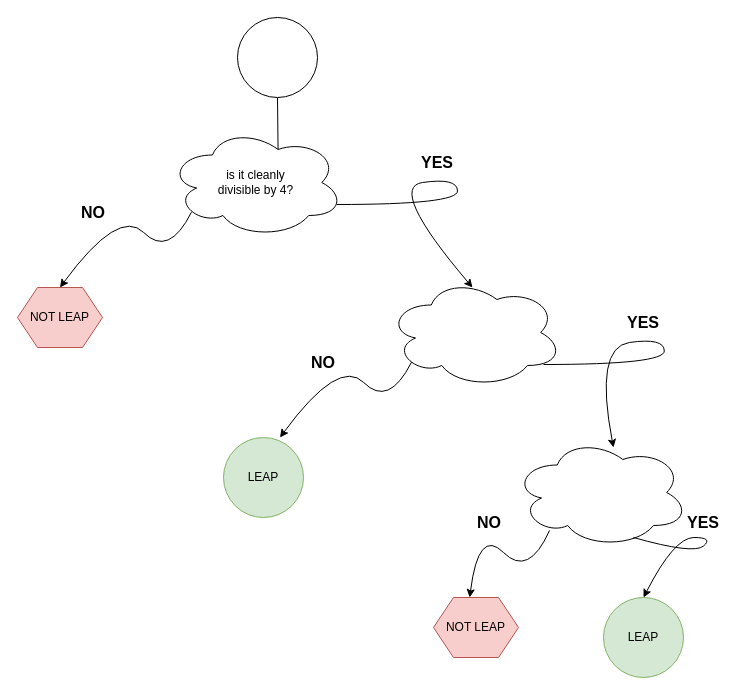
This 751x695 diagram has some shape labels left out. Each missing label, with the box of its shape:
is it also cleanly divisible by 100?: (386, 276, 562, 388)
is it also cleanly divisible by 400?: (512, 436, 688, 548)
Start: (236, 16, 318, 98)
